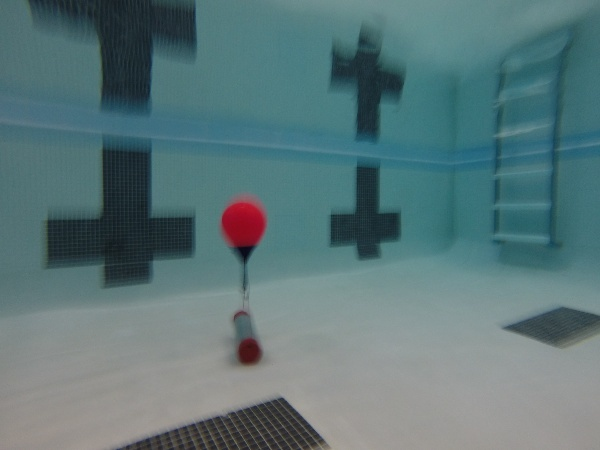buoy_red: (214, 198, 270, 266)
